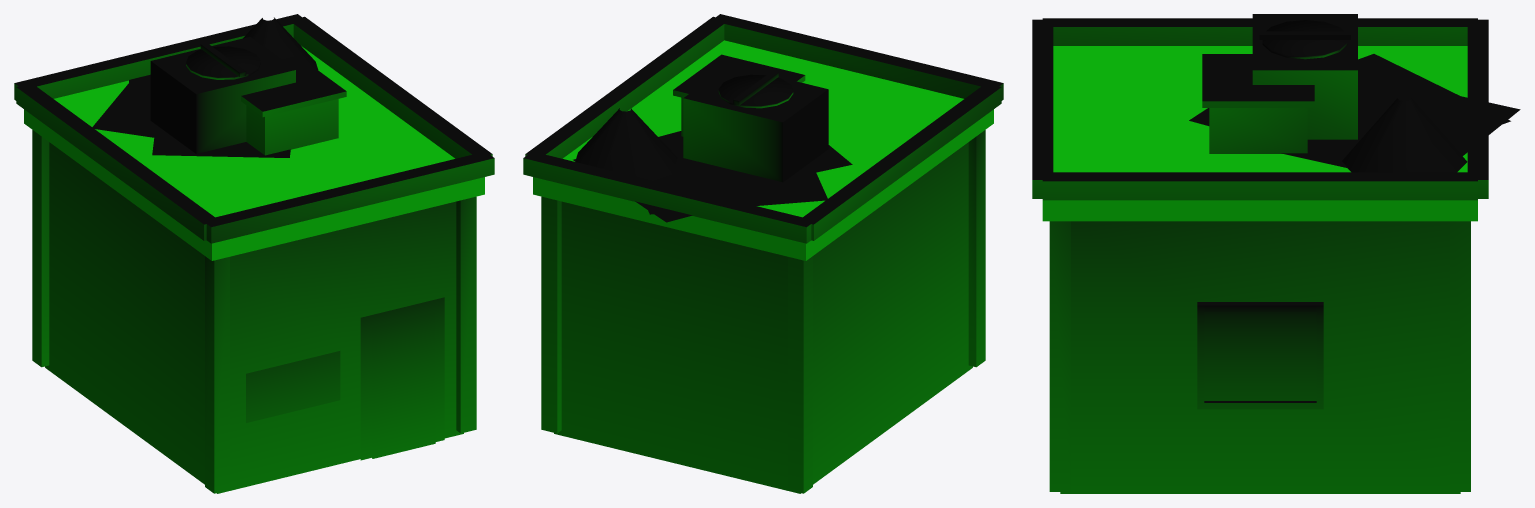
Rendered from singlecivlivingc.glb.
3 views of the same model, side by side, from view 1: azimuth 30°, elevation 25°; view 2: azimuth 150°, elevation 25°; view 3: azimuth 270°, elevation 25° (orthographic). The views are drawn at different scales.
Parts seen in each view (by area): view 1: lod0; view 2: lod0; view 3: lod0.
Boxes of the visible parts, x1,y1,x2,y2 form: lod0: (14, 14, 494, 493); lod0: (523, 14, 1003, 493); lod0: (1032, 14, 1520, 493).
Size of what is drawn, in the model's own units: 5.5 by 6.04 by 6.96.
